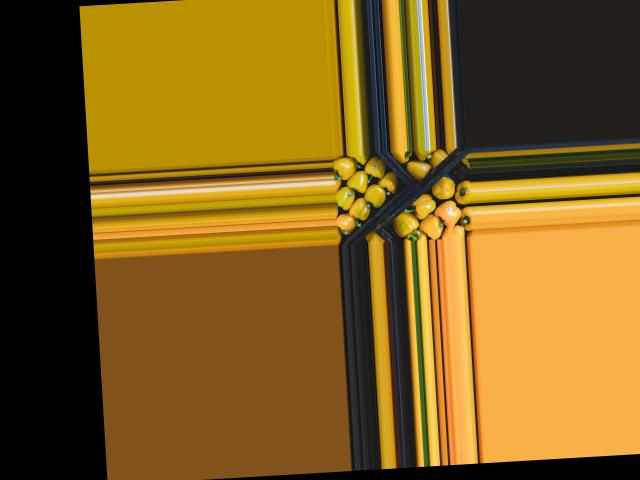bell_pepper: (332, 152, 361, 177)
